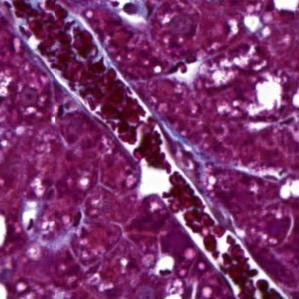inflammation: (108, 0, 149, 27)
